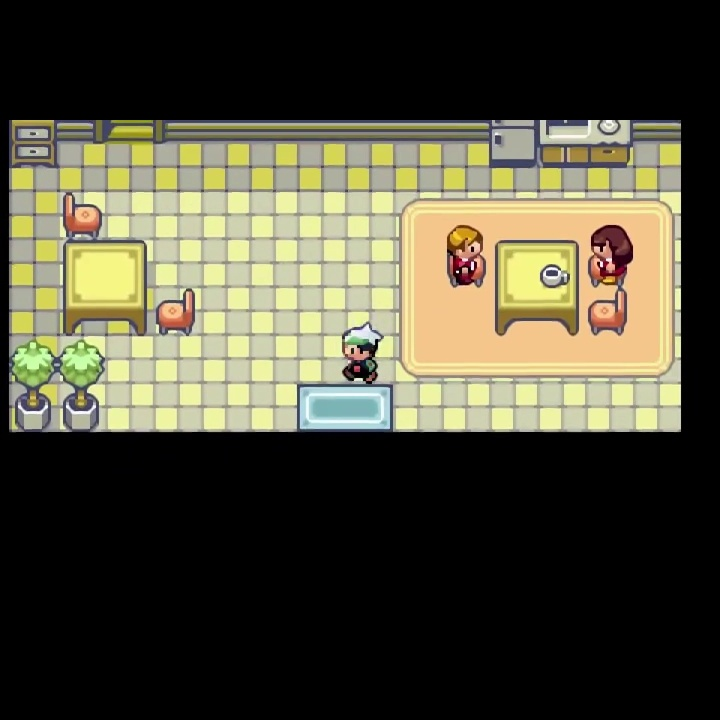agent: (340, 324, 386, 387)
exit: (294, 382, 396, 492)
npc: (588, 223, 633, 289), (443, 221, 486, 289)
